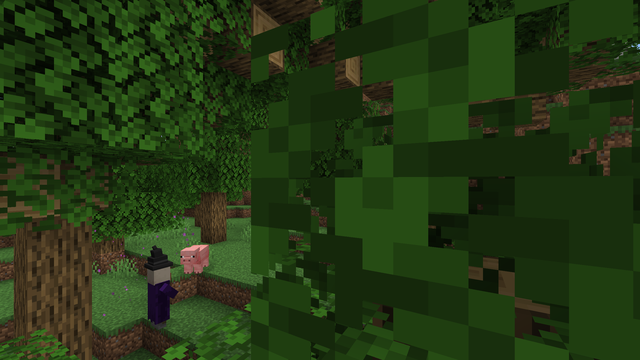cochons: (179, 243, 213, 274)
sorcieres: (143, 260, 173, 333)
